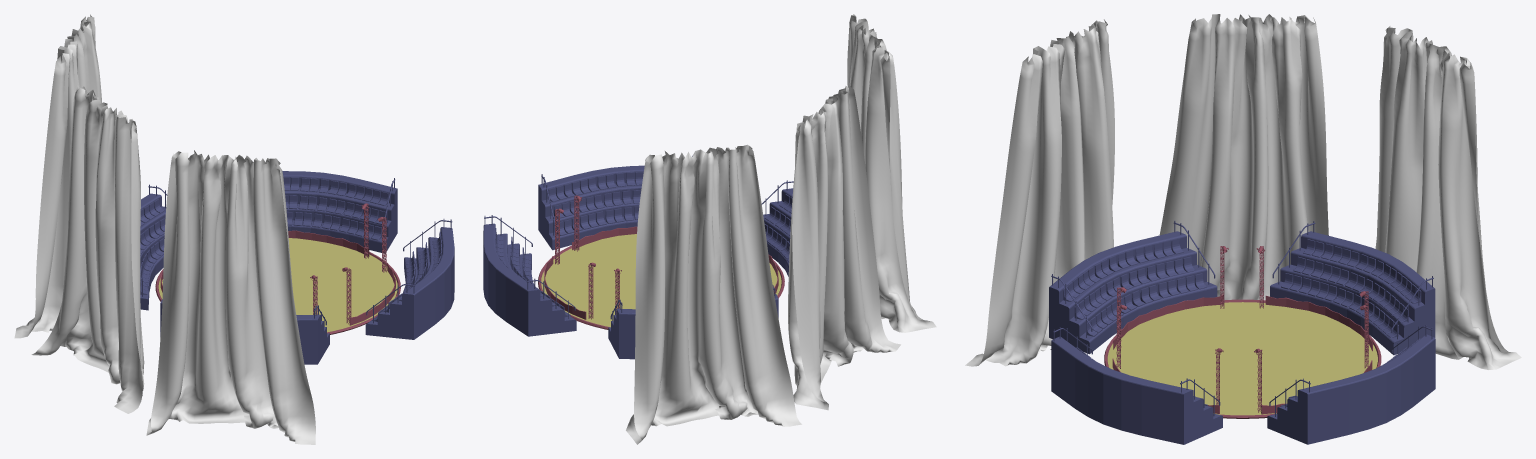
Rendered from Escenario-UV.fbx.
The picture shows the model from 3 angles, left to right: view 1: azimuth 30°, elevation 25°; view 2: azimuth 150°, elevation 25°; view 3: azimuth 270°, elevation 25°; orthographic projection. The views are drawn at different scales.
Visible parts, largest first — view 1: Grid, Escenario; view 2: Grid, Escenario; view 3: Grid, Escenario.
Part boxes in pixels (left/top/right/bottom): Grid: left=14, top=14, right=315, bottom=444; Escenario: left=140, top=171, right=454, bottom=364; Grid: left=626, top=14, right=936, bottom=444; Escenario: left=483, top=155, right=793, bottom=359; Grid: left=965, top=14, right=1521, bottom=369; Escenario: left=1049, top=220, right=1435, bottom=444.
Bounding box in the file's own units: 6521 × 4723 × 7833.
